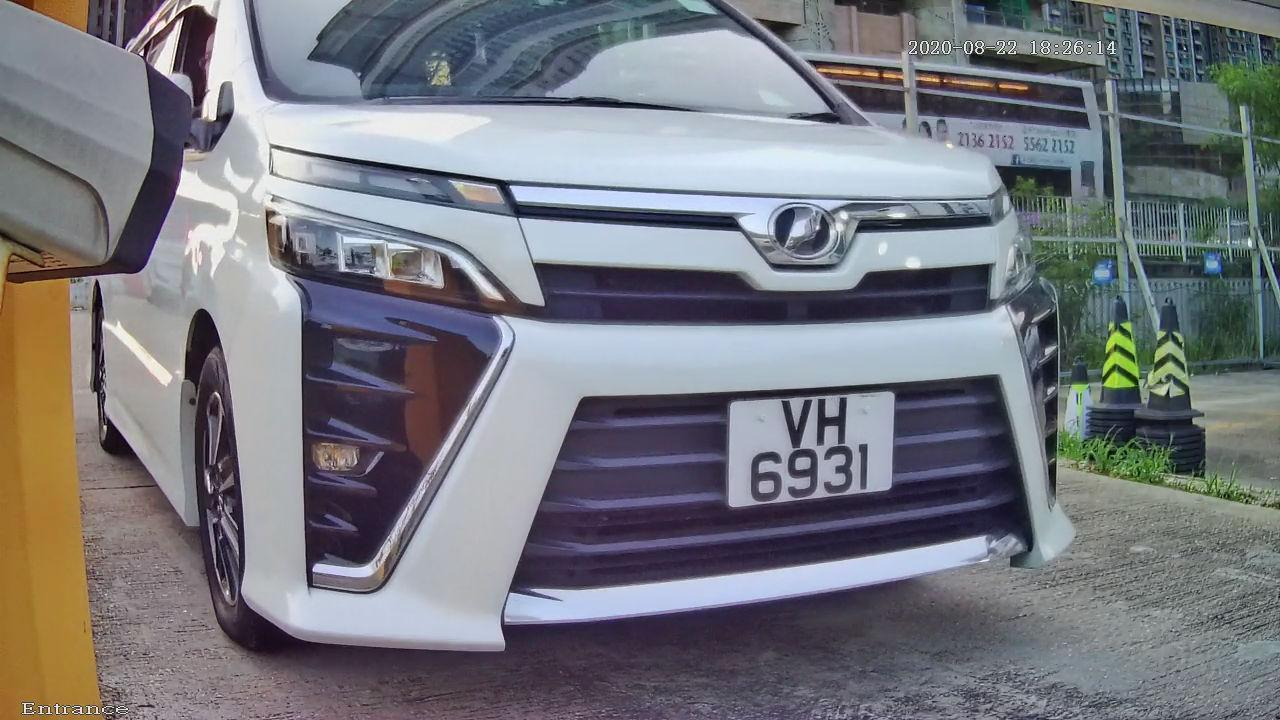License Plate: (715, 377, 909, 528)
